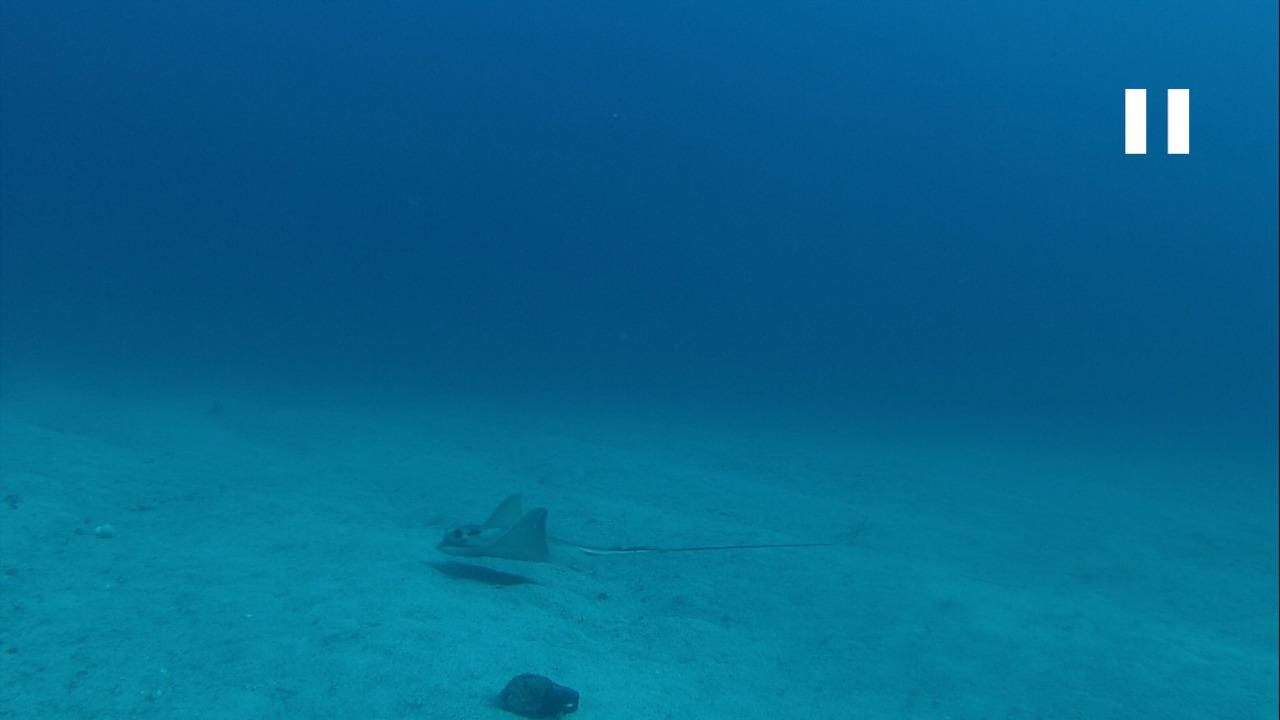myliobatis: (430, 489, 869, 577)
